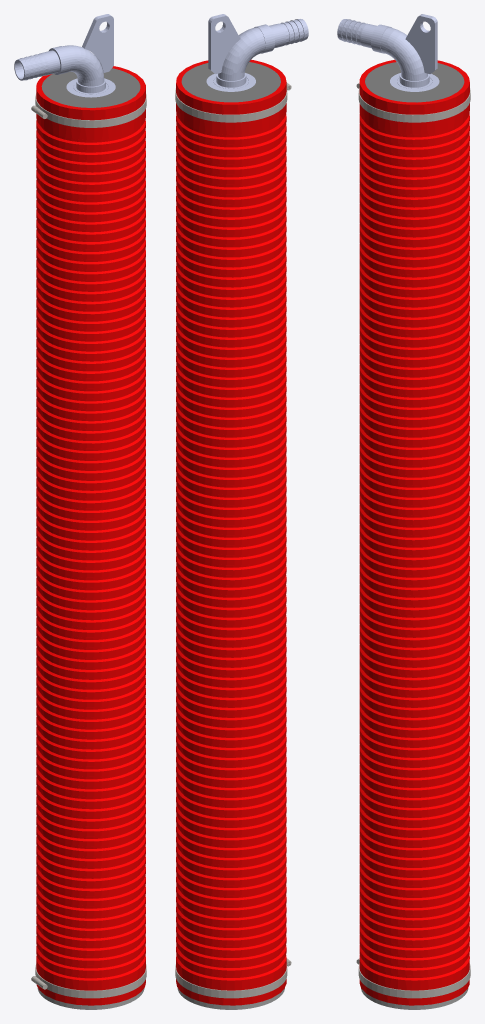
The model's file is TUBE LIFT ID 180.fbx.
3 renders of one model, left to right at view 1: azimuth 30°, elevation 25°; view 2: azimuth 210°, elevation 25°; view 3: azimuth 330°, elevation 25°, orthographic.
Visible parts, largest first — view 1: APP.MRD.ong_TUBE_LIFTER_ID180, APP.MRD.co_treo, APP.MRD.adapter_top_ID180, APP.MRD.co_de_ID180_2, APP.MRD.co_de_ID180, APP.MRD.duoi_chuot_ong_50_ren_43-2, APP.MRD1.MT.dau_nhua_tren_ID180, APP.MRD.bac_dan_61908_2, APP.MRD.noi_ren_42; view 2: APP.MRD.ong_TUBE_LIFTER_ID180, APP.MRD.co_treo, APP.MRD.adapter_top_ID180, APP.MRD.co_de_ID180, APP.MRD.co_de_ID180_2, APP.MRD.duoi_chuot_ong_50_ren_43-2, APP.MRD1.MT.dau_nhua_tren_ID180, APP.MRD.bac_dan_61908_2; view 3: APP.MRD.ong_TUBE_LIFTER_ID180, APP.MRD.co_treo, APP.MRD.adapter_top_ID180, APP.MRD.co_de_ID180, APP.MRD.co_de_ID180_2, APP.MRD.duoi_chuot_ong_50_ren_43-2, APP.MRD1.MT.dau_nhua_tren_ID180, APP.MRD.bac_dan_61908_2.
Part boxes in pixels (<box>): APP.MRD.ong_TUBE_LIFTER_ID180: <box>36,66,145,1005</box>; APP.MRD.co_treo: <box>63,14,113,86</box>; APP.MRD.adapter_top_ID180: <box>41,68,140,107</box>; APP.MRD.co_de_ID180_2: <box>31,964,146,998</box>; APP.MRD.co_de_ID180: <box>31,93,146,127</box>; APP.MRD.duoi_chuot_ong_50_ren_43-2: <box>14,50,60,80</box>; APP.MRD1.MT.dau_nhua_tren_ID180: <box>37,988,144,1009</box>; APP.MRD.bac_dan_61908_2: <box>66,78,115,97</box>; APP.MRD.noi_ren_42: <box>49,46,70,74</box>; APP.MRD.ong_TUBE_LIFTER_ID180: <box>176,59,286,1005</box>; APP.MRD.co_treo: <box>208,14,265,80</box>; APP.MRD.adapter_top_ID180: <box>181,62,280,102</box>; APP.MRD.co_de_ID180: <box>175,82,291,122</box>; APP.MRD.co_de_ID180_2: <box>175,958,291,998</box>; APP.MRD.duoi_chuot_ong_50_ren_43-2: <box>269,19,308,48</box>; APP.MRD1.MT.dau_nhua_tren_ID180: <box>177,988,284,1009</box>; APP.MRD.bac_dan_61908_2: <box>206,73,255,91</box>; APP.MRD.ong_TUBE_LIFTER_ID180: <box>359,59,469,1005</box>; APP.MRD.co_treo: <box>380,14,437,80</box>; APP.MRD.adapter_top_ID180: <box>365,62,464,102</box>; APP.MRD.co_de_ID180: <box>356,82,470,122</box>; APP.MRD.co_de_ID180_2: <box>356,958,470,998</box>; APP.MRD.duoi_chuot_ong_50_ren_43-2: <box>337,19,376,48</box>; APP.MRD1.MT.dau_nhua_tren_ID180: <box>361,988,468,1009</box>; APP.MRD.bac_dan_61908_2: <box>390,73,439,91</box>.
Size of the model in its own units: 252 by 1949 by 203.
